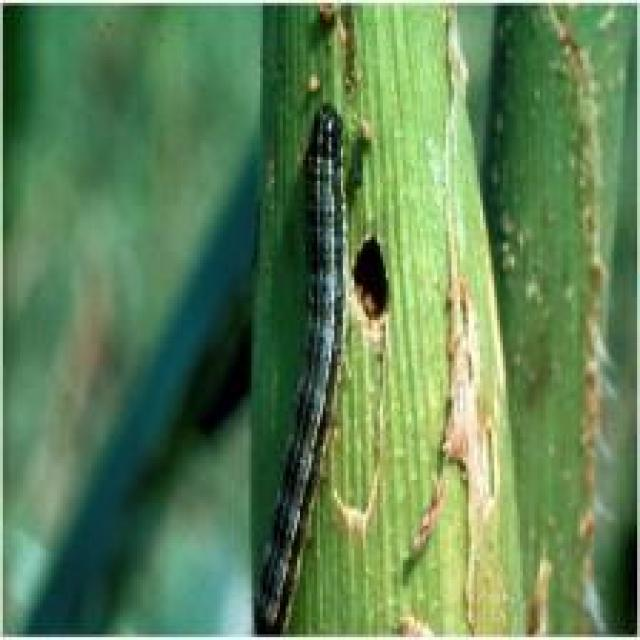Plaga: (243, 89, 378, 640)
